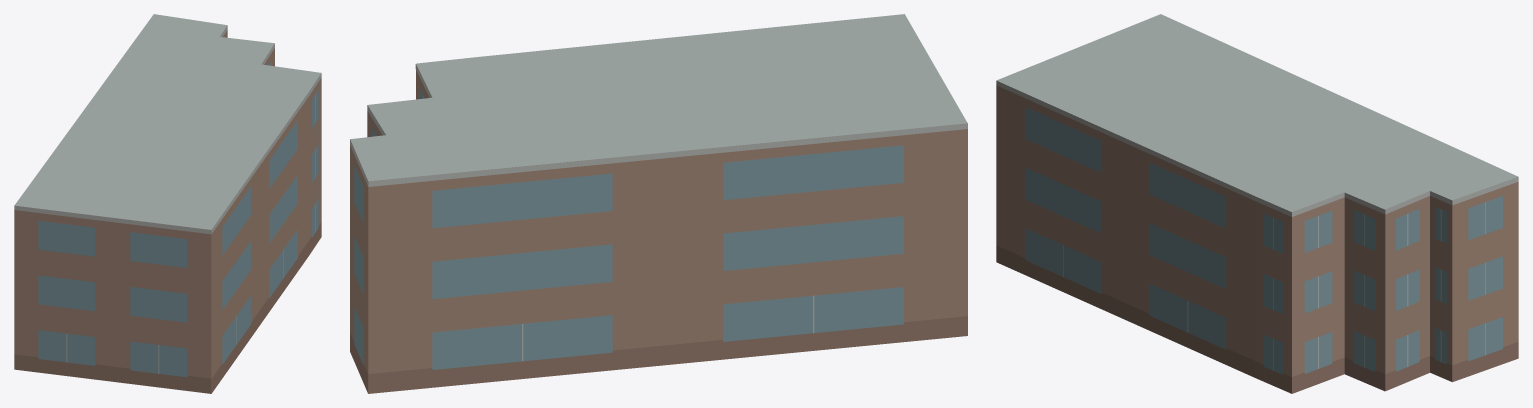
File: survey-upis-32957870.glb
The picture shows the model from 3 angles, left to right: view 1: azimuth 30°, elevation 25°; view 2: azimuth 150°, elevation 25°; view 3: azimuth 270°, elevation 25°; orthographic projection. The views are drawn at different scales.
Visible parts, largest first — view 1: survey-upis-32957870.tmp; view 2: survey-upis-32957870.tmp; view 3: survey-upis-32957870.tmp.
Part boxes in pixels (x1=…): survey-upis-32957870.tmp: x1=14, y1=14, x2=321, y2=393; survey-upis-32957870.tmp: x1=350, y1=14, x2=967, y2=393; survey-upis-32957870.tmp: x1=996, y1=14, x2=1518, y2=393.
Bounding box in the file's own units: 21.42 × 9.15 × 23.85.
